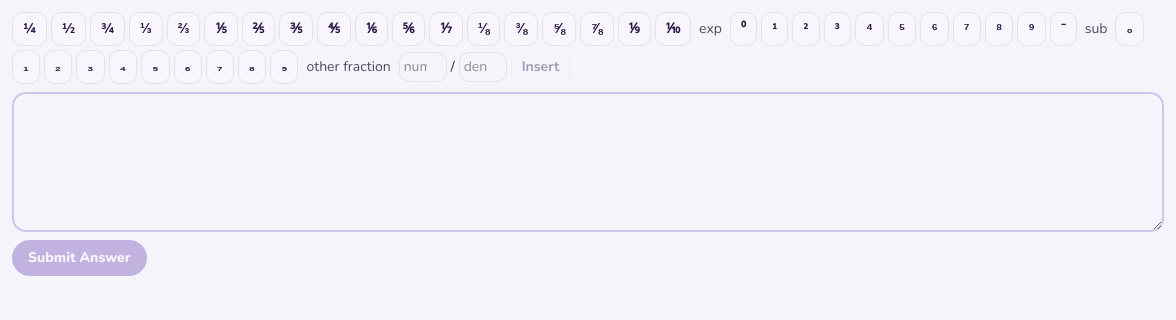
Test: FreeTextAnswerInput rejection states › shows the moderation-rejected state and no other rejection state
Type "an answer" into the text box at (588, 162), box [12,92,1164,232]
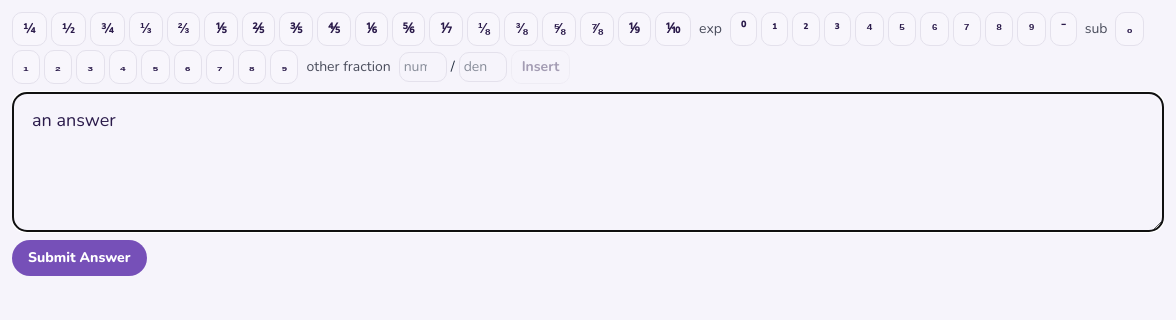
Click the button "Submit Answer" at (79, 258), box [12,240,146,276]
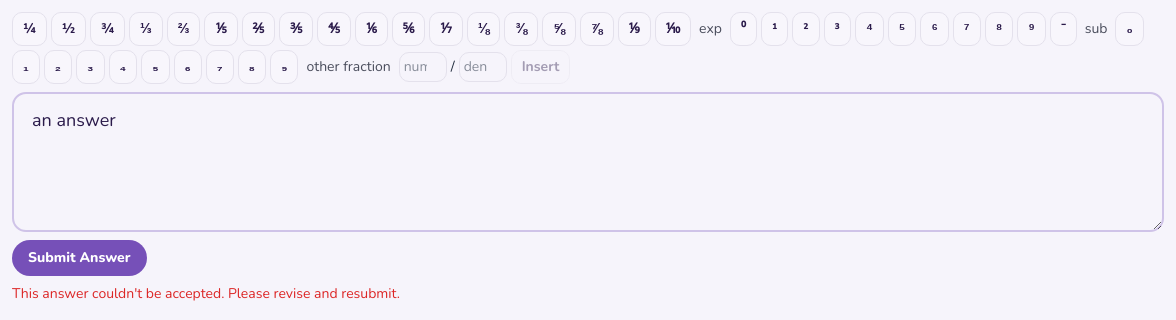
Now the text with test id "free-text-error-moderation" is shown, box [12,284,400,303]
